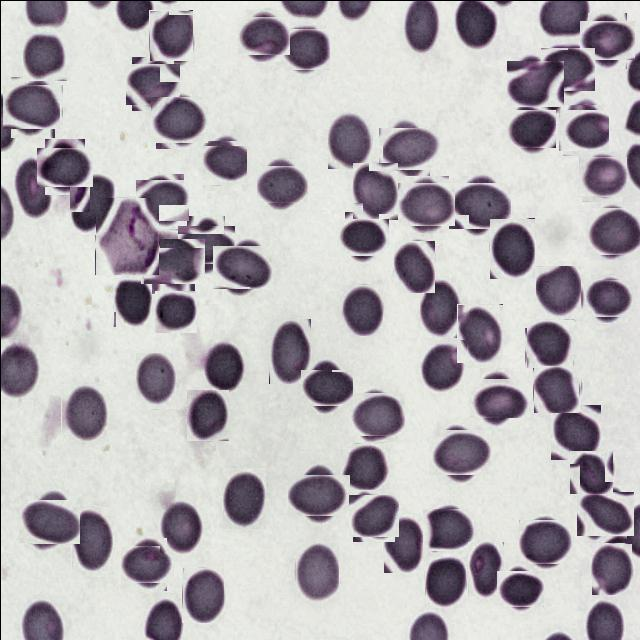red blood cell: (144, 233, 199, 288), (452, 178, 506, 233), (432, 424, 486, 478), (60, 382, 107, 444), (68, 172, 114, 234), (587, 203, 640, 256), (488, 217, 534, 278), (268, 317, 310, 383), (414, 339, 466, 392), (217, 240, 269, 293), (550, 404, 600, 459), (70, 505, 112, 570), (456, 303, 502, 362), (382, 122, 434, 174), (6, 80, 58, 132), (292, 468, 344, 520), (22, 495, 74, 547), (153, 93, 205, 145), (508, 56, 560, 108), (294, 541, 338, 602), (351, 161, 397, 219), (222, 467, 265, 528), (579, 488, 630, 538), (474, 372, 524, 423), (327, 111, 371, 168), (401, 178, 451, 228), (351, 388, 401, 438), (536, 266, 582, 320), (419, 277, 460, 337), (12, 156, 51, 219), (520, 517, 569, 566), (524, 318, 572, 368), (542, 44, 592, 92), (181, 566, 223, 622), (134, 351, 175, 408), (159, 499, 202, 553), (181, 220, 229, 268), (128, 59, 176, 107), (40, 142, 88, 190), (383, 515, 423, 572), (138, 176, 186, 223), (583, 16, 630, 64), (532, 365, 580, 412), (148, 9, 192, 60), (341, 442, 388, 489), (349, 492, 396, 539), (424, 506, 471, 552), (22, 31, 66, 80), (186, 389, 228, 440), (424, 555, 465, 607), (590, 542, 631, 594), (393, 240, 434, 292), (282, 26, 328, 72), (560, 106, 606, 152), (124, 541, 170, 586), (241, 12, 286, 58), (199, 142, 244, 188), (202, 341, 242, 392), (342, 284, 382, 335), (579, 154, 624, 199), (467, 541, 503, 596), (304, 365, 348, 410), (260, 161, 304, 206), (508, 106, 552, 150), (568, 450, 612, 494), (340, 215, 384, 259), (112, 277, 151, 326), (588, 276, 630, 320), (498, 567, 540, 609), (154, 290, 196, 332)
ring: (94, 196, 158, 274)
